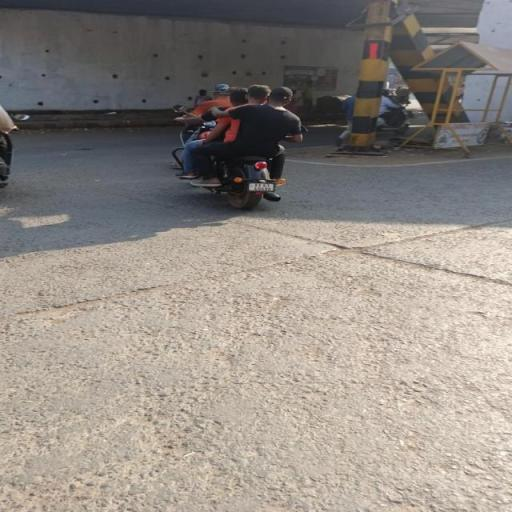tripple riding: (178, 84, 310, 147)
